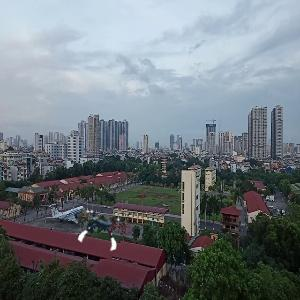drone: (81, 211, 123, 253)
